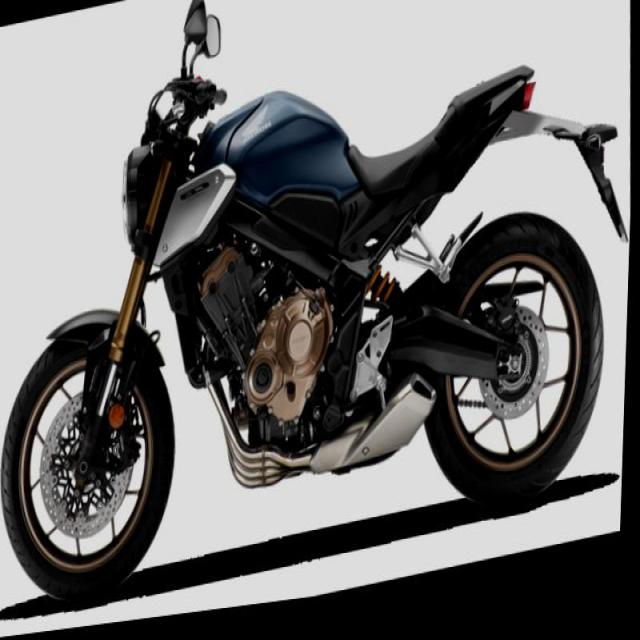CB650R: (0, 0, 623, 629)
